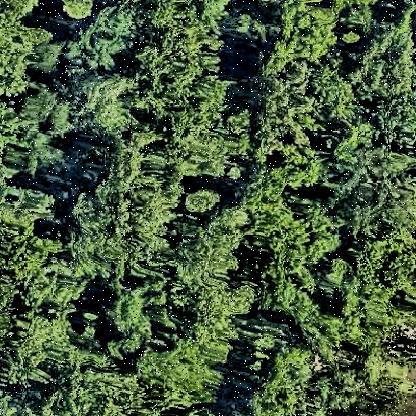tree-top: (259, 198, 347, 304), (329, 138, 416, 242), (137, 4, 223, 93), (4, 83, 78, 181), (254, 68, 338, 152), (251, 347, 337, 416), (141, 346, 227, 408), (353, 232, 414, 316), (3, 187, 57, 281), (352, 24, 412, 101), (176, 219, 242, 287), (68, 5, 138, 69), (2, 21, 58, 97), (77, 70, 135, 142), (276, 2, 340, 64), (100, 287, 158, 345), (182, 185, 226, 223), (235, 7, 273, 41), (1, 1, 46, 25), (62, 1, 97, 24)
